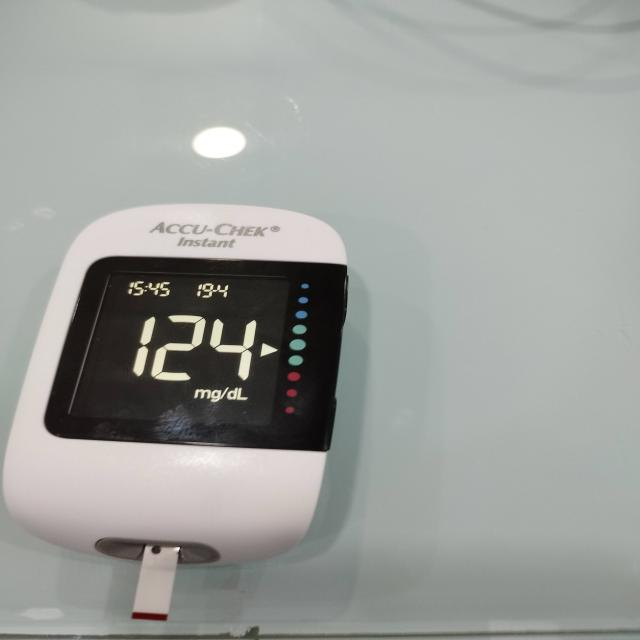gluco: (3, 206, 350, 566)
